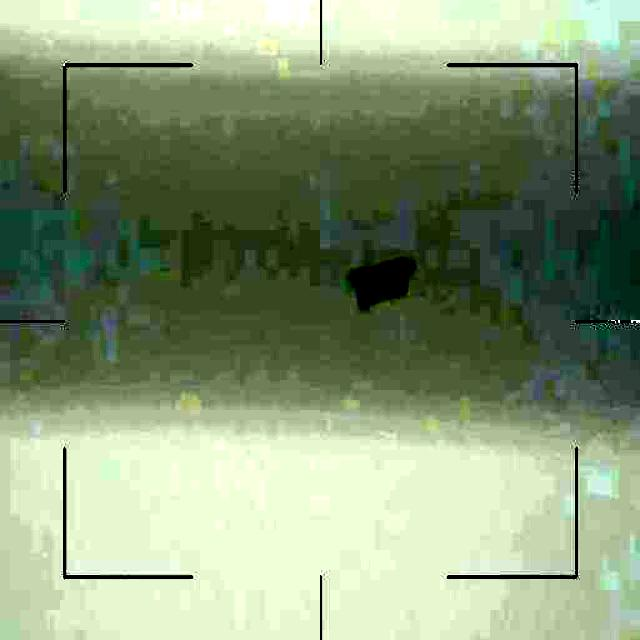bird: (352, 262, 410, 306)
